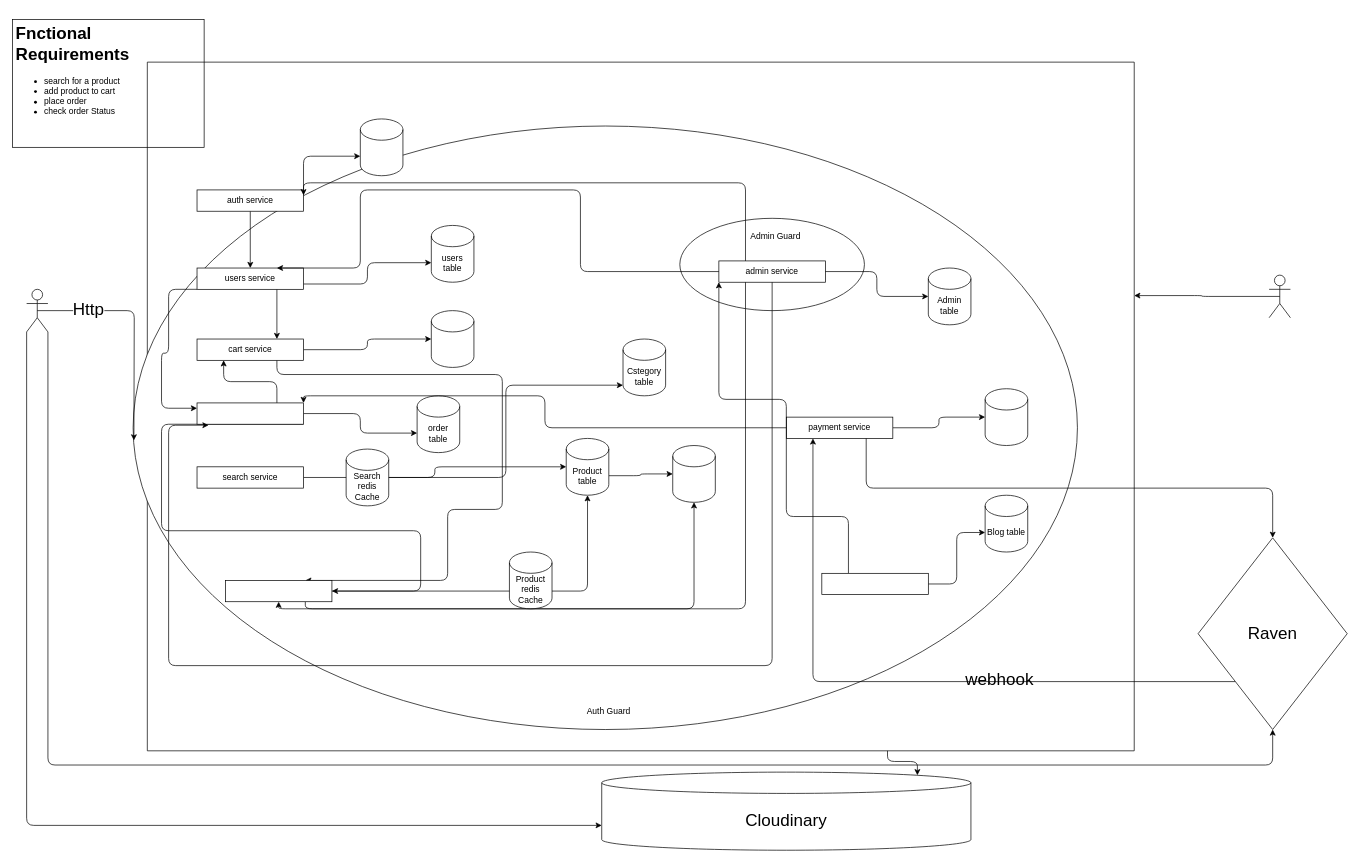
Image size: 1360x863. Some labels were removed from this diagram. The box of each missing label's shape, as (x1, y1, x2, y2) in pixels:
Admin: (1268, 274, 1290, 318)
blog service: (821, 573, 928, 595)
Cart table: (431, 310, 474, 367)
Client: (26, 289, 48, 332)
inventory service: (225, 580, 332, 602)
order service: (196, 402, 304, 424)
otp Cache: (360, 118, 403, 176)
Product media table: (672, 445, 715, 502)
Transaction table: (984, 388, 1028, 446)
